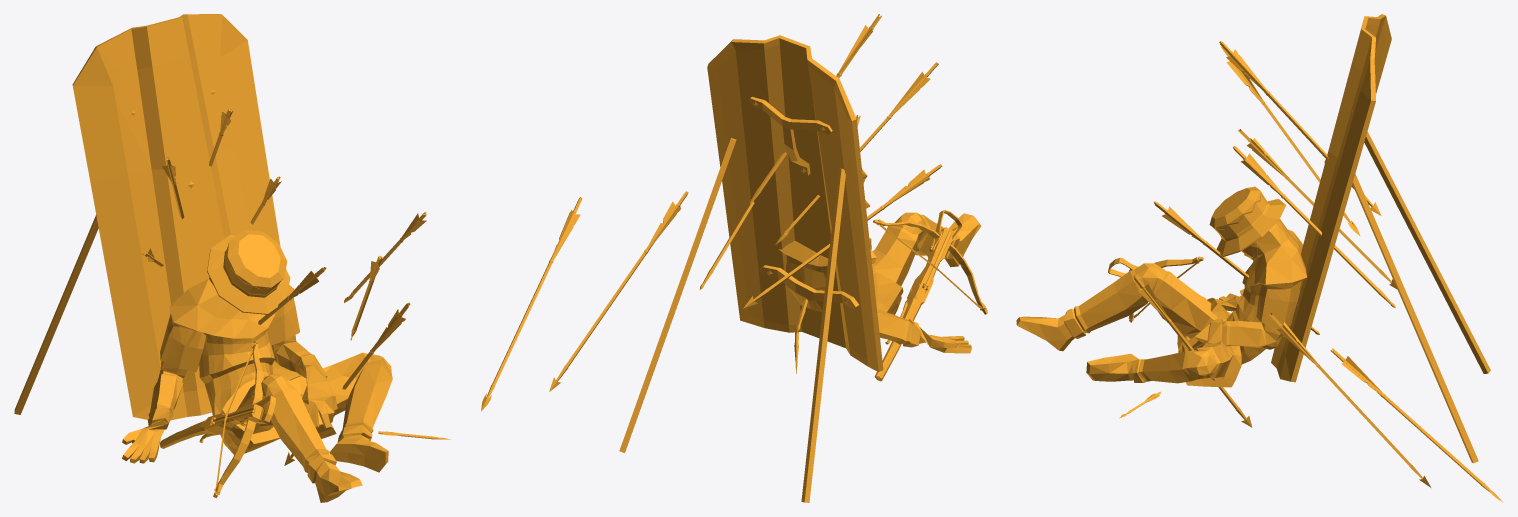
File: SM_Corpse_Human_Soldier_C_Fantasy.fbx
3 renders of one model, left to right at view 1: azimuth 30°, elevation 25°; view 2: azimuth 150°, elevation 25°; view 3: azimuth 270°, elevation 25°, orthographic. The views are drawn at different scales.
Parts seen in each view (by area): view 1: corpse-human-soldier-c-weapon-medieval, corpse-human-soldier-c-body-medieval; view 2: corpse-human-soldier-c-weapon-medieval, corpse-human-soldier-c-body-medieval; view 3: corpse-human-soldier-c-weapon-medieval, corpse-human-soldier-c-body-medieval.
Part boxes in pixels (x1=…): corpse-human-soldier-c-weapon-medieval: x1=14, y1=14, x2=450, y2=497; corpse-human-soldier-c-body-medieval: x1=122, y1=230, x2=392, y2=502; corpse-human-soldier-c-weapon-medieval: x1=481, y1=14, x2=987, y2=502; corpse-human-soldier-c-body-medieval: x1=778, y1=169, x2=981, y2=353; corpse-human-soldier-c-weapon-medieval: x1=1108, y1=14, x2=1502, y2=502; corpse-human-soldier-c-body-medieval: x1=1016, y1=186, x2=1306, y2=387.
Size of the model in its own units: 1.71 by 1.85 by 2.11.
